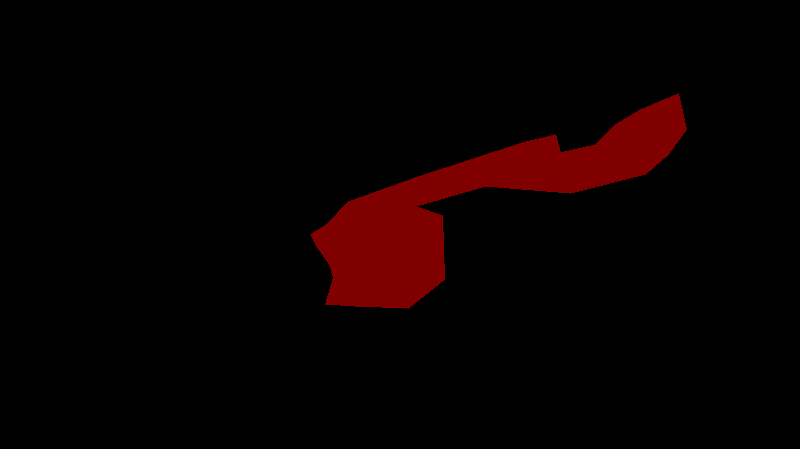fire: (310, 93, 686, 308)
